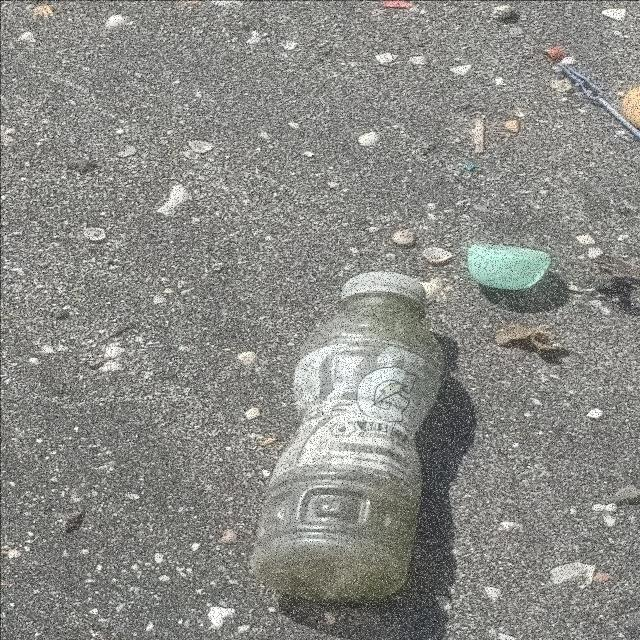plastic_waste: (250, 271, 447, 602)
